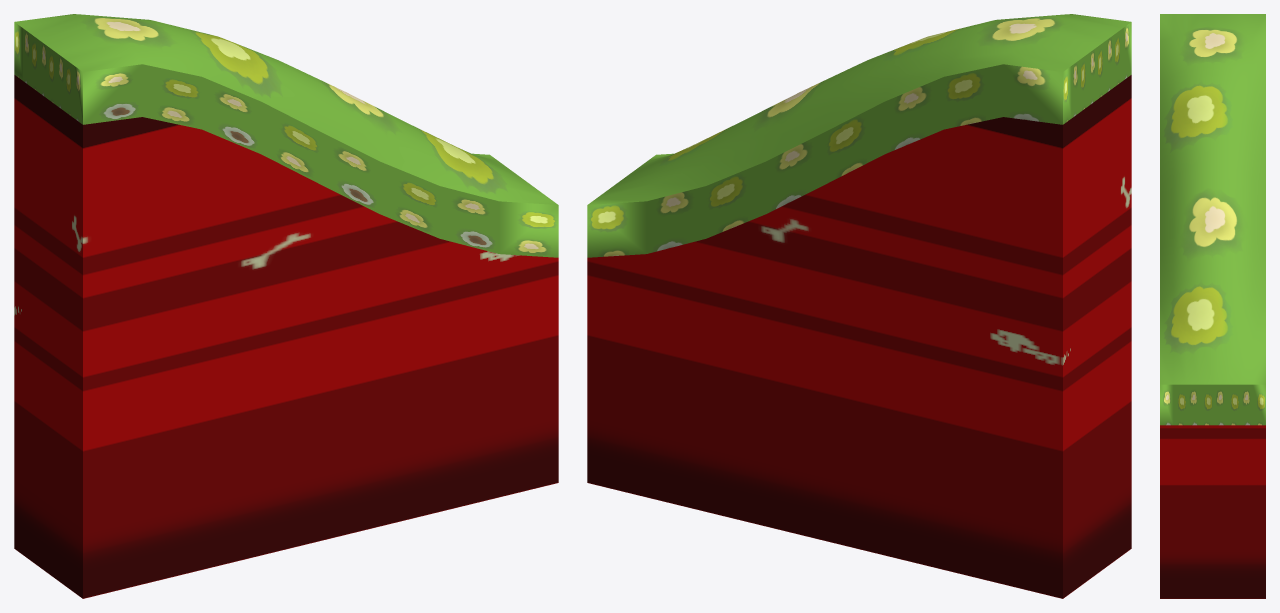
Rendered from block_rect_curved_hill_4x1.obj.
The picture shows the model from 3 angles, left to right: view 1: azimuth 30°, elevation 25°; view 2: azimuth 150°, elevation 25°; view 3: azimuth 270°, elevation 25°; orthographic projection. The views are drawn at different scales.
Visible parts, largest first — view 1: polySurface13; view 2: polySurface13; view 3: polySurface13.
Boxes of the visible parts, x1,y1,x2,y2 form: polySurface13: [14, 14, 558, 598]; polySurface13: [587, 14, 1131, 598]; polySurface13: [1160, 14, 1265, 598].
Bounding box in the file's own units: 800 × 856 × 200.
